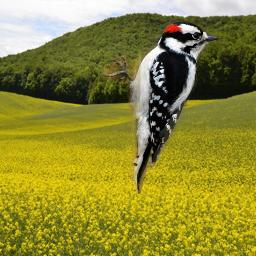Woodpecker: (104, 21, 219, 194)
